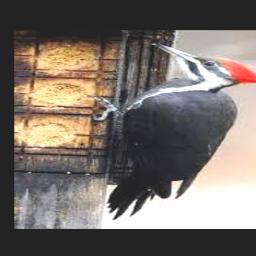Woodpecker: (91, 43, 256, 220)
